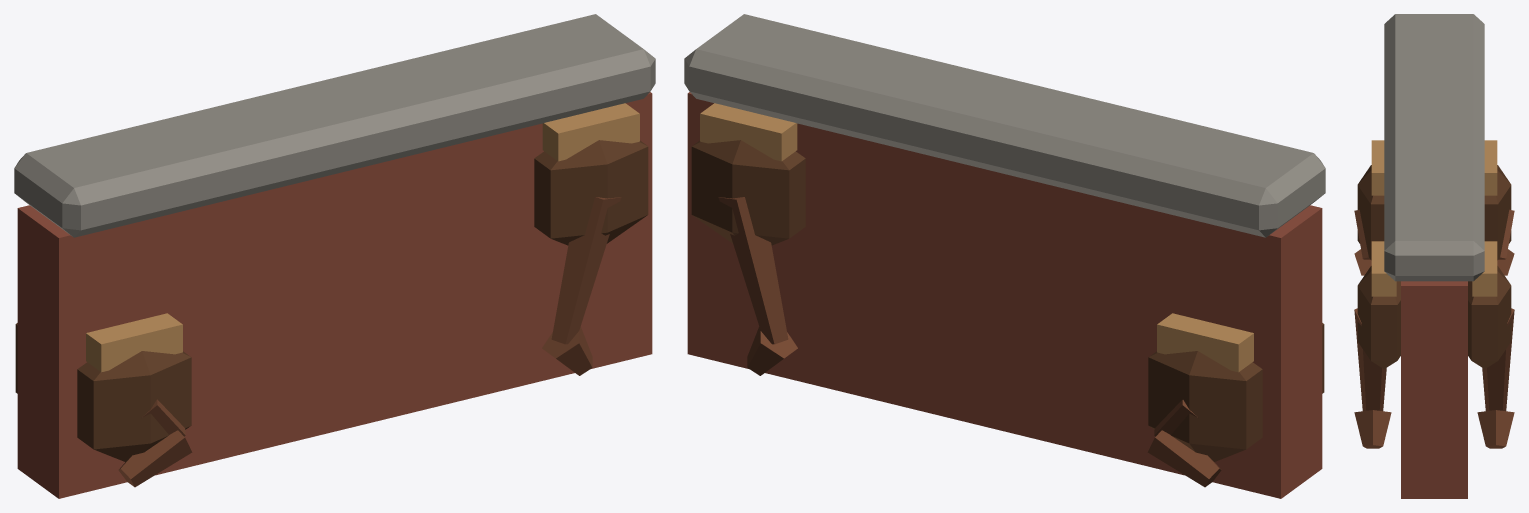
File: building-wall-half-infested.glb
The picture shows the model from 3 angles, left to right: view 1: azimuth 30°, elevation 25°; view 2: azimuth 150°, elevation 25°; view 3: azimuth 270°, elevation 25°; orthographic projection. The views are drawn at different scales.
Visible parts, largest first — view 1: body, coping, plaque_-1_0, plaque_-1_1, root_-1_1, plaque_-1_0_ridge, plaque_-1_1_ridge, foot_-1_0, foot_-1_1; view 2: body, coping, plaque_1_0, plaque_1_1, root_1_1, plaque_1_0_ridge, plaque_1_1_ridge, foot_1_0, foot_1_1; view 3: coping, body, plaque_-1_1, plaque_1_1, plaque_-1_0, plaque_1_0, root_-1_1, root_1_1, foot_-1_1, foot_1_1, plaque_-1_1_ridge, plaque_1_1_ridge (+6 smaller).
Boxes of the visible parts, left/top/right/bottom form: body: left=17, top=92, right=652, bottom=498; coping: left=14, top=14, right=655, bottom=237; plaque_-1_0: left=77, top=351, right=191, bottom=461; plaque_-1_1: left=534, top=140, right=648, bottom=245; root_-1_1: left=551, top=197, right=621, bottom=344; plaque_-1_0_ridge: left=86, top=313, right=182, bottom=372; plaque_-1_1_ridge: left=542, top=103, right=639, bottom=161; foot_-1_0: left=118, top=430, right=192, bottom=487; foot_-1_1: left=542, top=327, right=592, bottom=375; body: left=687, top=92, right=1322, bottom=498; coping: left=684, top=14, right=1325, bottom=237; plaque_1_0: left=1148, top=351, right=1262, bottom=461; plaque_1_1: left=691, top=140, right=805, bottom=245; root_1_1: left=718, top=197, right=788, bottom=344; plaque_1_0_ridge: left=1157, top=313, right=1253, bottom=372; plaque_1_1_ridge: left=700, top=103, right=797, bottom=161; foot_1_0: left=1147, top=430, right=1221, bottom=487; foot_1_1: left=747, top=327, right=797, bottom=375; coping: left=1384, top=14, right=1484, bottom=281; body: left=1401, top=281, right=1467, bottom=498; plaque_-1_1: left=1357, top=266, right=1400, bottom=368; plaque_1_1: left=1468, top=266, right=1511, bottom=368; plaque_-1_0: left=1357, top=165, right=1384, bottom=260; plaque_1_0: left=1484, top=165, right=1511, bottom=260; root_-1_1: left=1354, top=308, right=1386, bottom=411; root_1_1: left=1482, top=308, right=1514, bottom=411; foot_-1_1: left=1354, top=410, right=1391, bottom=448; foot_1_1: left=1477, top=410, right=1514, bottom=448; plaque_-1_1_ridge: left=1371, top=241, right=1396, bottom=296; plaque_1_1_ridge: left=1472, top=241, right=1497, bottom=296.
Size of the model in its own units: 1 by 0.5 by 0.2866.
